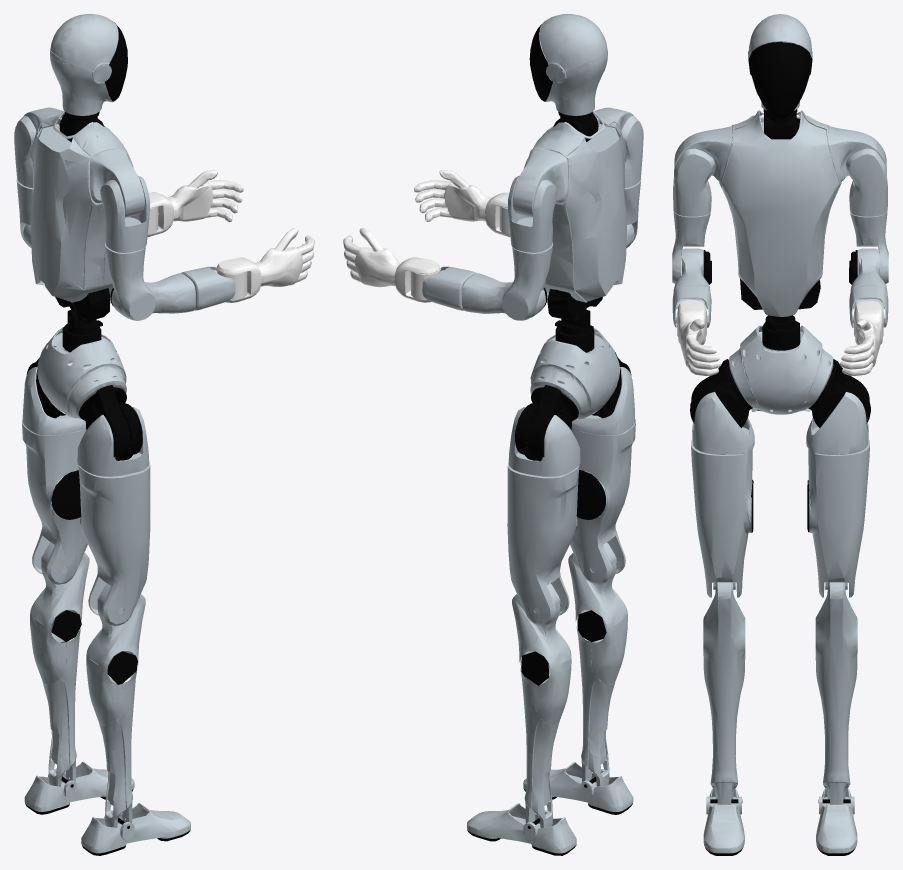
3 views of the same model, side by side, from view 1: azimuth 30°, elevation 25°; view 2: azimuth 150°, elevation 25°; view 3: azimuth 270°, elevation 25° (orthographic).
Parts seen in each view (by area): view 1: torso_link_mesh, right_hip_yaw_link_mesh, right_knee_link_mesh, left_knee_link_mesh, left_hip_yaw_link_mesh, head_yaw_link, pelvis_mesh, right_ankle_pitch_link, left_hand_link, right_hip_pitch_link_mesh, right_hip_roll_link_mesh, left_ankle_pitch_link (+12 smaller); view 2: torso_link_mesh, left_hip_yaw_link_mesh, left_knee_link_mesh, right_knee_link_mesh, right_hip_yaw_link_mesh, head_yaw_link, pelvis_mesh, left_ankle_pitch_link, right_hand_link, left_hip_pitch_link_mesh, left_hip_roll_link_mesh, right_ankle_pitch_link (+12 smaller); view 3: torso_link_mesh, right_hip_yaw_link_mesh, left_hip_yaw_link_mesh, pelvis_mesh, left_knee_link_mesh, right_knee_link_mesh, head_yaw_link, right_hip_roll_link_mesh, left_hip_roll_link_mesh, left_shoulder_roll_link_mesh, right_shoulder_roll_link_mesh, left_ankle_pitch_link (+17 smaller).
Part boxes in pixels (<box>): torso_link_mesh: <box>30,111,133,323</box>; right_hip_yaw_link_mesh: <box>78,463,150,625</box>; right_knee_link_mesh: <box>86,583,145,827</box>; left_knee_link_mesh: <box>30,542,89,786</box>; left_hip_yaw_link_mesh: <box>22,420,87,584</box>; head_yaw_link: <box>50,14,127,115</box>; pelvis_mesh: <box>37,323,126,419</box>; right_ankle_pitch_link: <box>81,803,190,855</box>; left_hand_link: <box>167,170,243,222</box>; right_hip_pitch_link_mesh: <box>79,385,142,460</box>; right_hip_roll_link_mesh: <box>77,407,149,476</box>; left_ankle_pitch_link: <box>24,762,134,814</box>; torso_link_mesh: <box>524,110,627,323</box>; left_hip_yaw_link_mesh: <box>507,463,579,625</box>; left_knee_link_mesh: <box>512,583,571,827</box>; right_knee_link_mesh: <box>568,542,627,786</box>; right_hip_yaw_link_mesh: <box>570,420,635,584</box>; head_yaw_link: <box>529,14,607,115</box>; pelvis_mesh: <box>530,325,619,419</box>; left_ankle_pitch_link: <box>467,803,576,855</box>; right_hand_link: <box>414,170,491,221</box>; left_hip_pitch_link_mesh: <box>515,385,578,461</box>; left_hip_roll_link_mesh: <box>508,407,580,476</box>; right_ankle_pitch_link: <box>523,762,633,814</box>; torso_link_mesh: <box>719,110,841,316</box>; right_hip_yaw_link_mesh: <box>691,438,753,597</box>; left_hip_yaw_link_mesh: <box>807,438,869,597</box>; pelvis_mesh: <box>729,320,833,414</box>; left_knee_link_mesh: <box>815,582,857,804</box>; right_knee_link_mesh: <box>703,582,745,804</box>; head_yaw_link: <box>748,14,812,119</box>; right_hip_roll_link_mesh: <box>692,392,754,454</box>; left_hip_roll_link_mesh: <box>806,392,868,454</box>; left_shoulder_roll_link_mesh: <box>846,148,887,216</box>; right_shoulder_roll_link_mesh: <box>673,148,714,216</box>; left_ankle_pitch_link: <box>816,788,857,855</box>.
Size of the model in its own units: 0.5606 by 1.83 by 0.4466.
